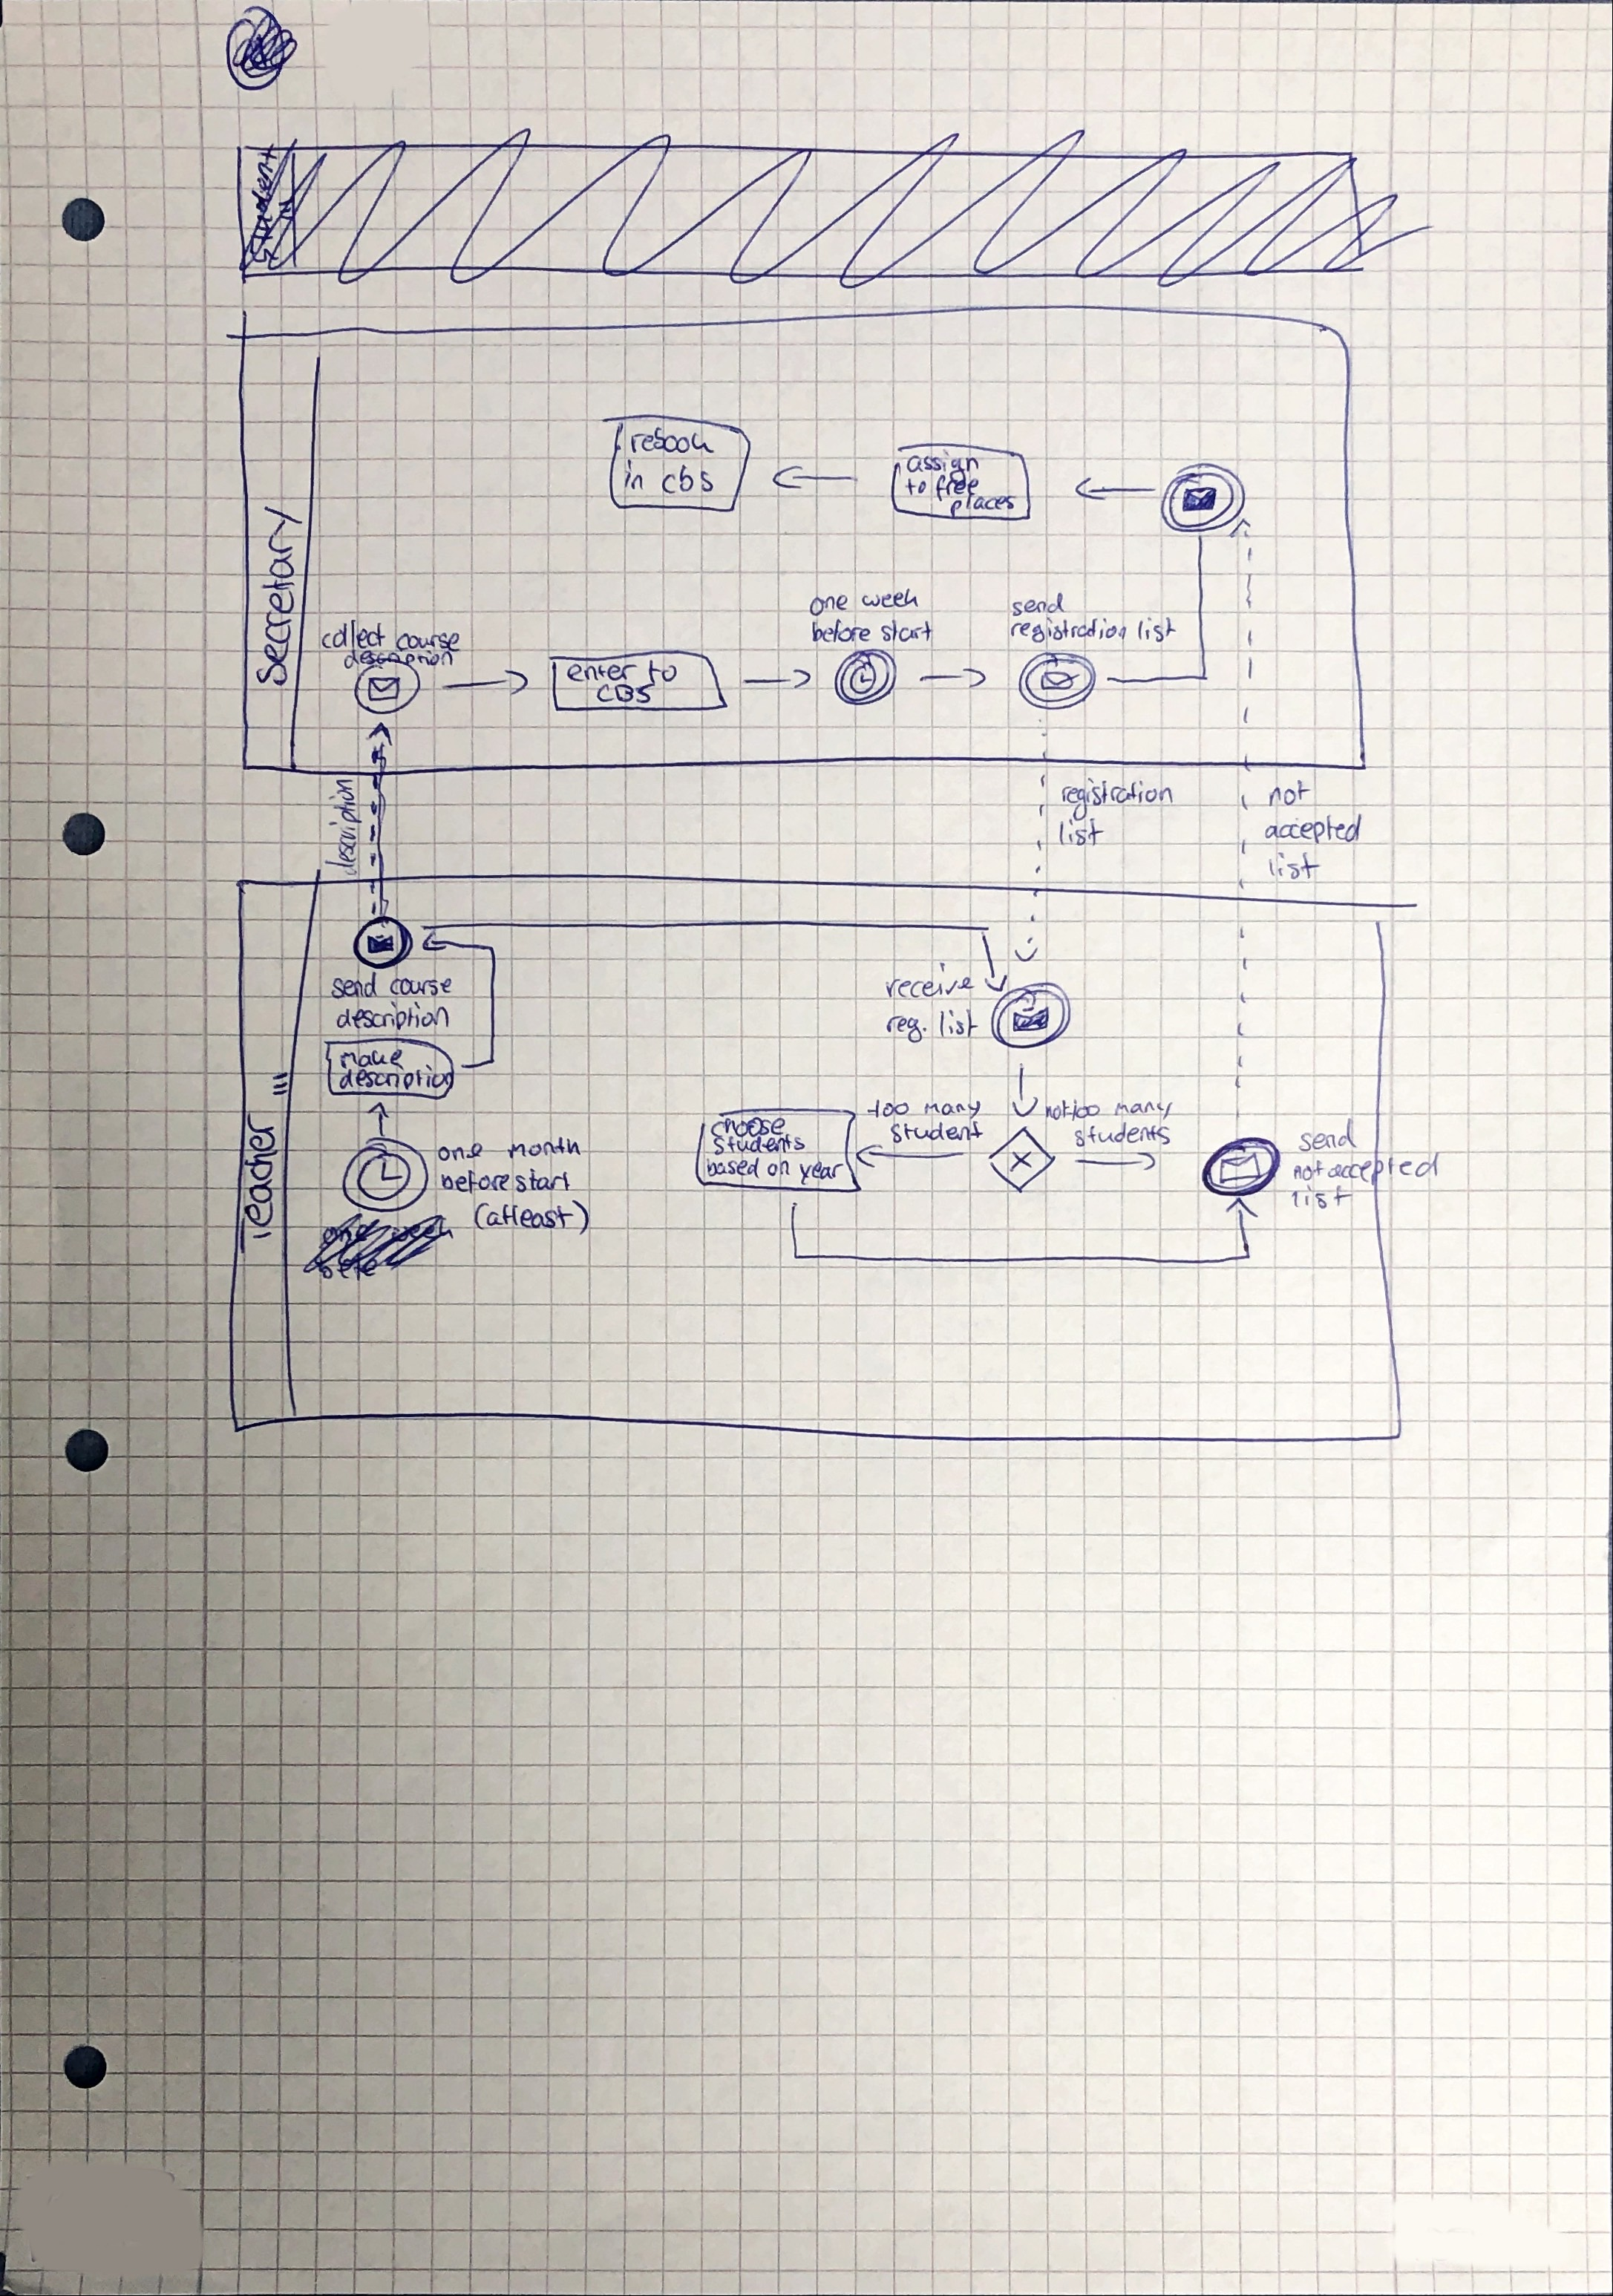CBS: (598, 678, 658, 706)
III: (271, 1070, 291, 1096)
Student: (884, 1120, 989, 1144)
Teacher: (234, 1110, 279, 1254)
accepted: (1328, 1153, 1447, 1185), (1258, 812, 1370, 843)
assign: (903, 453, 989, 480)
atleast: (484, 1204, 574, 1229)
based: (700, 1155, 765, 1179)
before: (436, 1168, 515, 1194), (805, 618, 880, 644)
cbs: (658, 462, 716, 497)
choose.: (709, 1115, 794, 1139)
collect: (319, 615, 389, 655)
course: (387, 975, 457, 1002), (395, 629, 462, 654)
description: (333, 1001, 454, 1033), (327, 776, 364, 878), (334, 1067, 452, 1093), (338, 650, 462, 670)
enter: (565, 661, 641, 687)
free: (932, 474, 984, 502)
in: (620, 457, 648, 494)
list: (1288, 1180, 1353, 1211), (1264, 848, 1319, 881), (934, 1005, 982, 1043), (1053, 815, 1103, 849), (1134, 616, 1177, 645)
make: (334, 1047, 409, 1068)
many: (1110, 1100, 1180, 1123), (920, 1099, 984, 1122)
month: (503, 1136, 581, 1163)
not: (1265, 778, 1314, 806), (1289, 1158, 1329, 1182), (1040, 1100, 1075, 1121)
on: (765, 1160, 796, 1177)
one: (437, 1140, 490, 1166), (805, 592, 854, 620)
places: (943, 490, 1019, 517)
rebook: (628, 425, 715, 457)
receive: (883, 963, 981, 1005)
reg.: (883, 1012, 930, 1046)
registration: (1055, 775, 1177, 820), (1007, 616, 1134, 644)
secretary: (254, 504, 299, 687)
send: (1296, 1116, 1361, 1155), (1009, 591, 1070, 619), (333, 972, 383, 1002)
start: (876, 616, 940, 645), (511, 1167, 576, 1193)
students: (1067, 1124, 1174, 1149), (707, 1133, 810, 1158)
to: (644, 659, 679, 687), (903, 476, 929, 500)
too: (867, 1098, 915, 1122), (1071, 1099, 1105, 1122)
week: (857, 587, 926, 612)
year: (796, 1159, 844, 1185)
